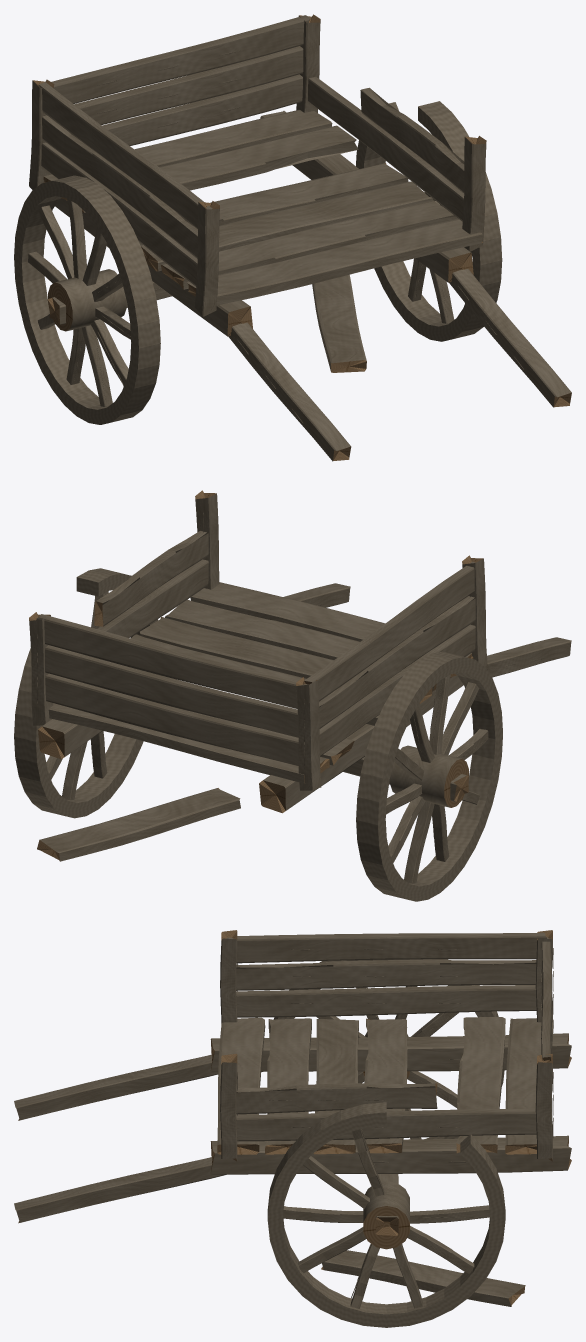
Rendered from cart_broken.fbx.
The picture shows the model from 3 angles, top to bottom: view 1: azimuth 30°, elevation 25°; view 2: azimuth 150°, elevation 25°; view 3: azimuth 270°, elevation 25°; orthographic projection. The views are drawn at different scales.
Visible parts, largest first — view 1: cart_broken; view 2: cart_broken; view 3: cart_broken.
Boxes of the visible parts, x1=… form: cart_broken: x1=14, y1=14, x2=571, y2=461; cart_broken: x1=14, y1=490, x2=571, y2=901; cart_broken: x1=14, y1=930, x2=571, y2=1327.
Size of what is drawn, in the model's own units: 1.96 by 1.2 by 2.44.
1 material, 1 textured.
